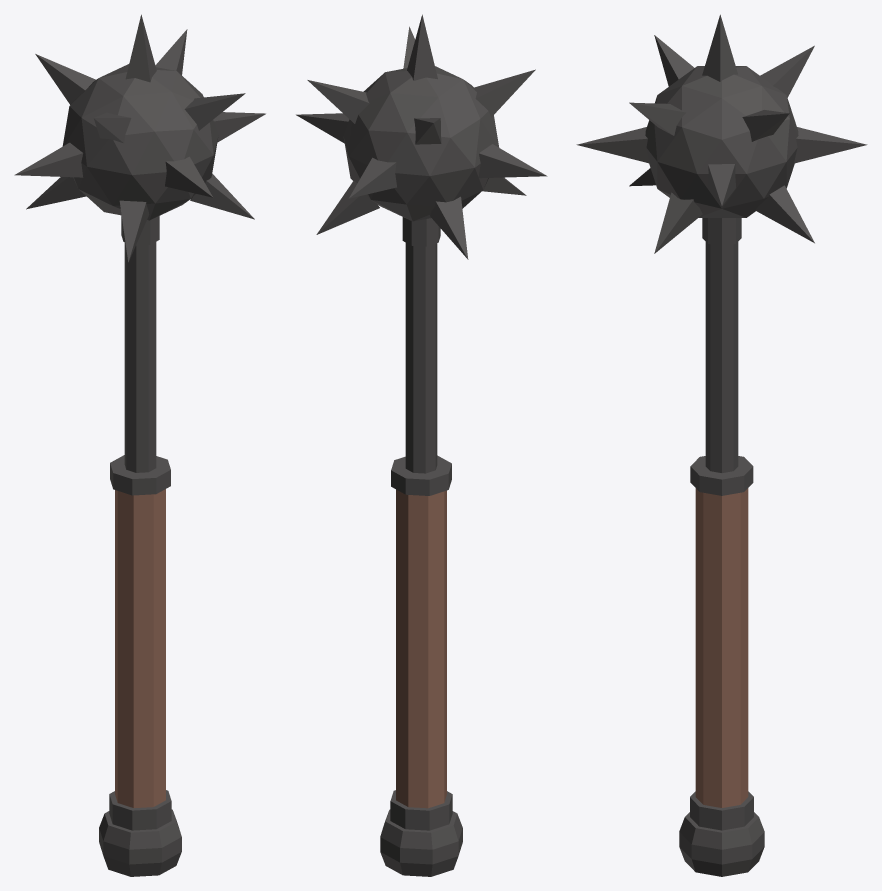
The model's file is maces.glb.
3 views of the same model, side by side, from view 1: azimuth 30°, elevation 25°; view 2: azimuth 150°, elevation 25°; view 3: azimuth 270°, elevation 25° (orthographic).
Parts seen in each view (by area): view 1: Spiked Mace; view 2: Spiked Mace; view 3: Spiked Mace.
Part boxes in pixels (x1=…): Spiked Mace: x1=14, y1=14, x2=265, y2=876; Spiked Mace: x1=296, y1=14, x2=547, y2=876; Spiked Mace: x1=576, y1=14, x2=867, y2=876.
Size of the model in its own units: 0.3973 by 1.27 by 0.3973.
